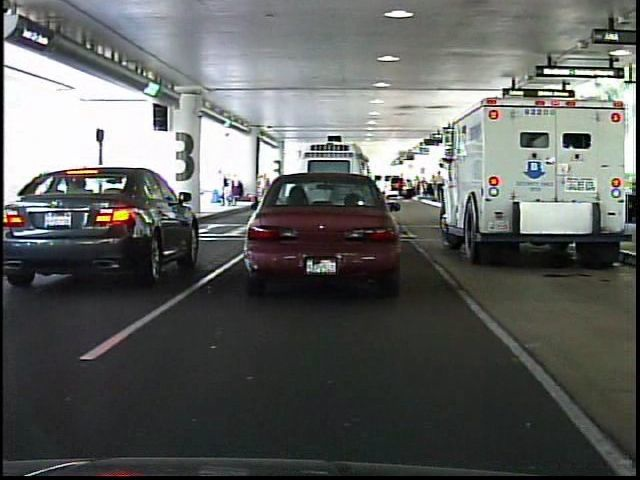person: (255, 172, 272, 207)
